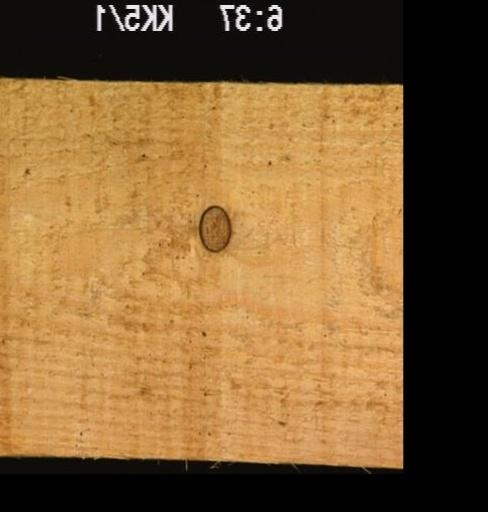dry_knot: (196, 203, 232, 252)
